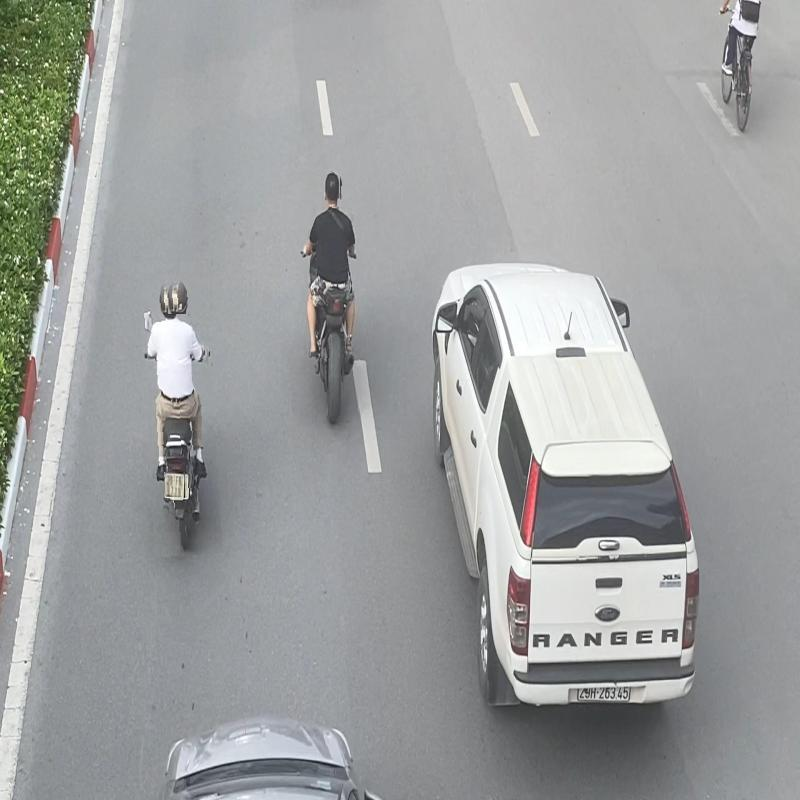helmet: (168, 280, 188, 314)
licenseplate: (164, 473, 185, 499)
motorcyclist: (142, 277, 218, 556), (300, 172, 361, 429)
nohelmet: (324, 173, 340, 207)
